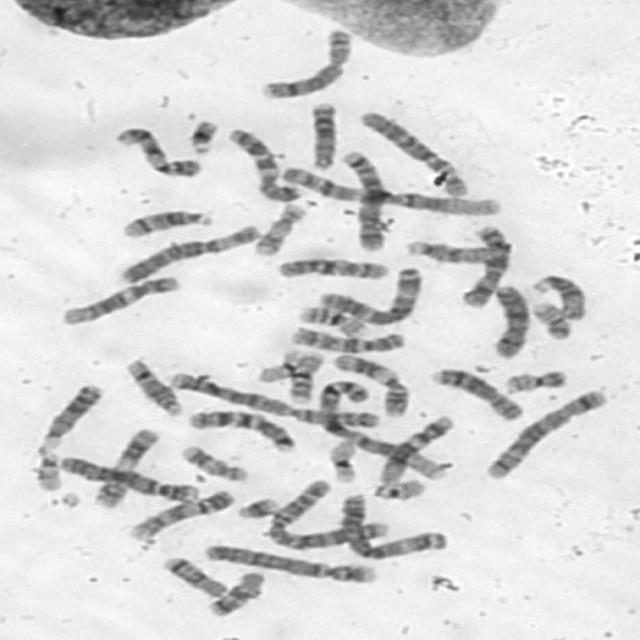A1: (318, 379, 448, 482), (282, 165, 503, 215)
A2: (169, 372, 381, 429), (268, 481, 390, 548)
A3: (340, 492, 447, 560), (319, 267, 424, 325)
B4: (202, 544, 378, 583), (59, 456, 200, 503)
B5: (486, 388, 608, 478), (341, 151, 387, 251)
C10: (290, 325, 406, 354), (277, 257, 390, 279)
C11: (92, 427, 161, 510), (332, 353, 409, 417)
C12: (62, 276, 180, 325), (380, 414, 455, 484)
C6: (359, 111, 468, 198), (119, 225, 262, 283)
C7: (226, 128, 304, 200), (187, 409, 298, 453)
C8: (261, 28, 353, 98), (429, 367, 524, 421)
C9: (128, 489, 237, 541), (115, 126, 201, 178)
D13: (38, 384, 106, 456), (309, 102, 338, 173)
D14: (125, 359, 183, 417), (122, 210, 214, 238)
D15: (404, 239, 510, 264), (532, 274, 586, 321)
E16: (297, 305, 371, 339), (287, 350, 325, 403)
E17: (253, 202, 308, 256), (181, 445, 249, 482)
E18: (162, 556, 228, 599), (206, 571, 265, 618)
F19: (328, 434, 362, 482), (258, 348, 303, 383)
F20: (530, 300, 573, 341), (503, 369, 568, 395)
G21: (189, 120, 219, 155), (237, 497, 281, 519)
G22: (373, 480, 426, 500), (36, 452, 62, 492)
X: (462, 224, 512, 308), (492, 284, 530, 358)
